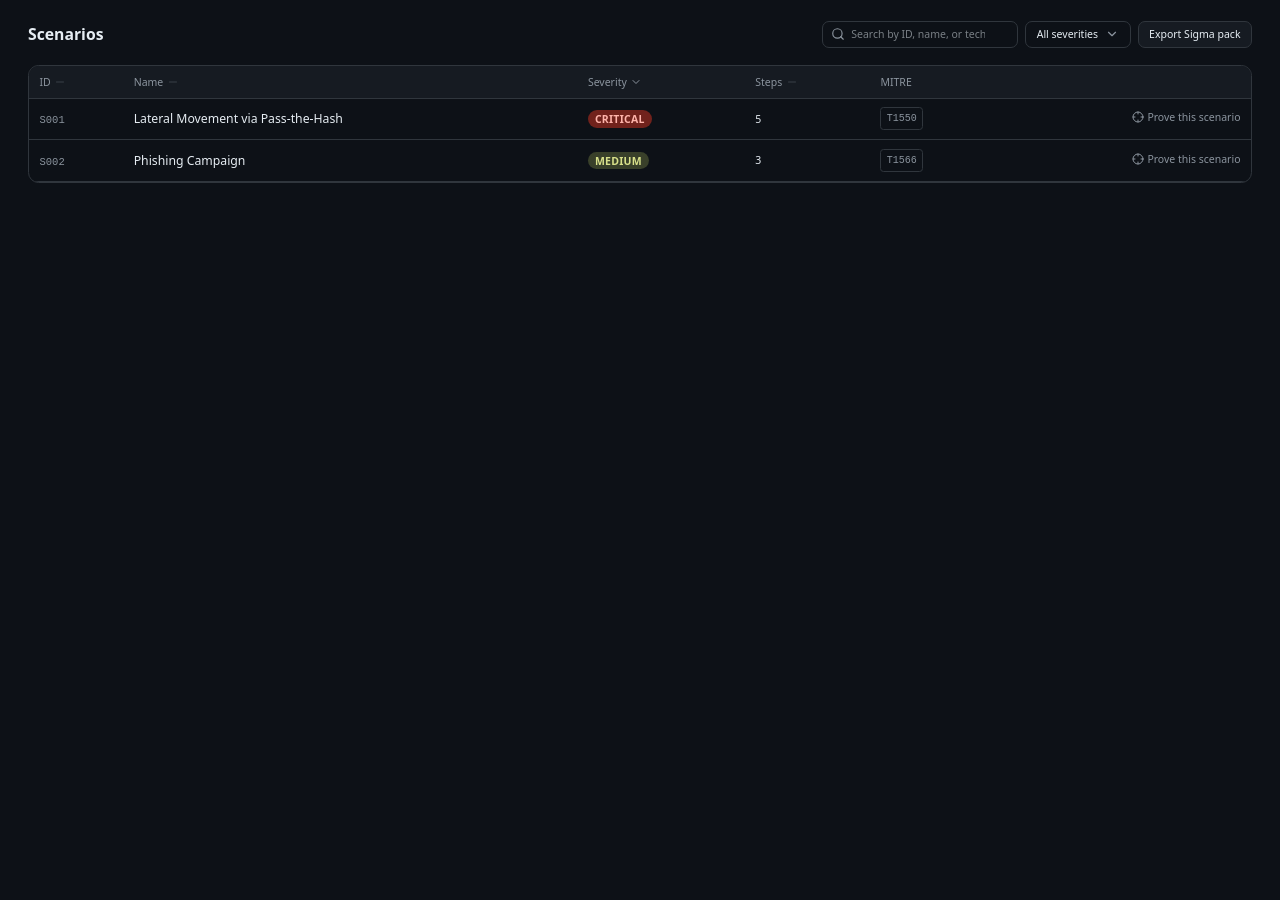
Test: Scenarios page › Sigma error state renders role="alert" when /api/scenarios/:id/sigma returns 500
The image size is (1280, 900).
Click the button named "view details for Lateral Movement" at (52, 120), box [40,113,65,127]
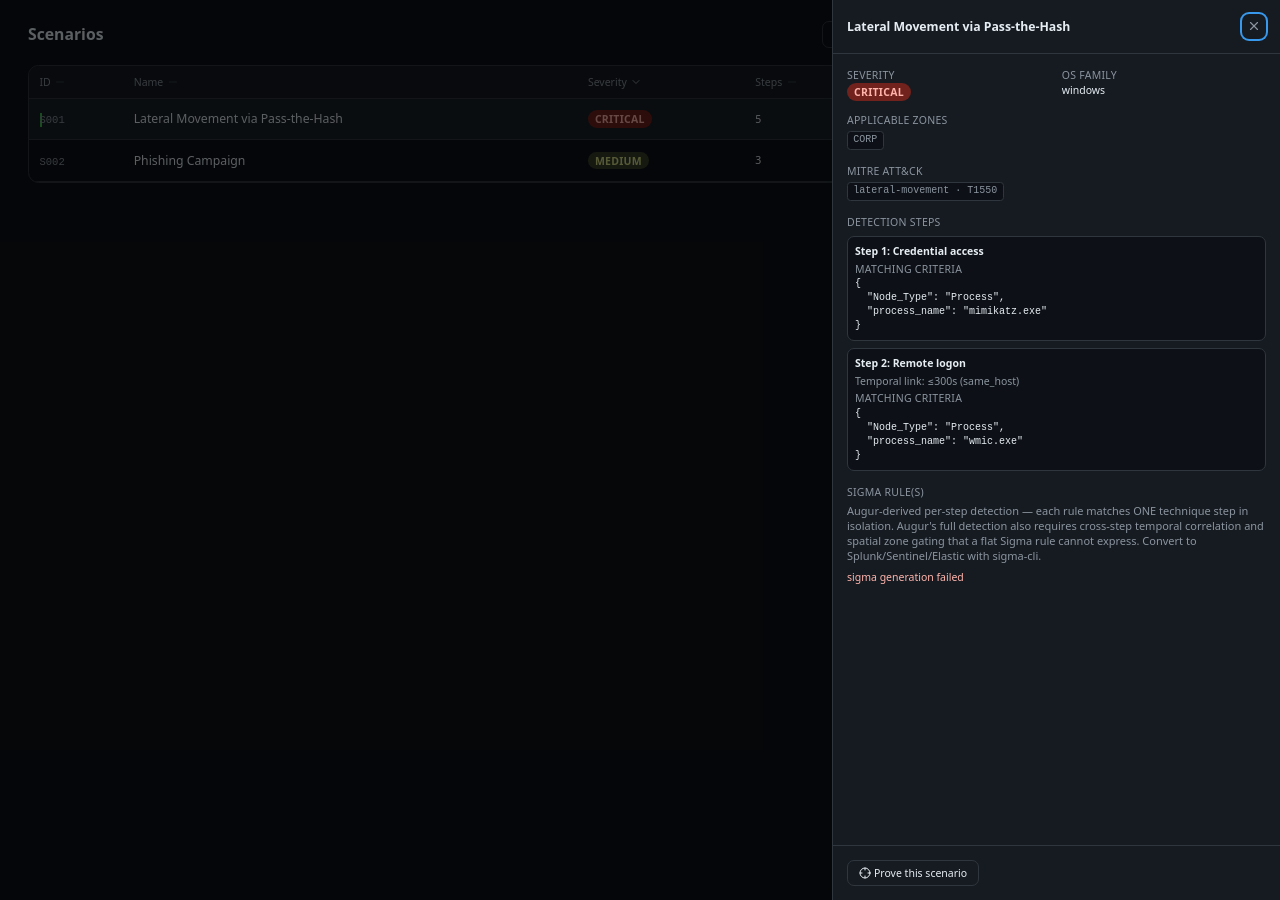
Check: the message "sigma generation failed" is shown, box [847,570,964,584]
